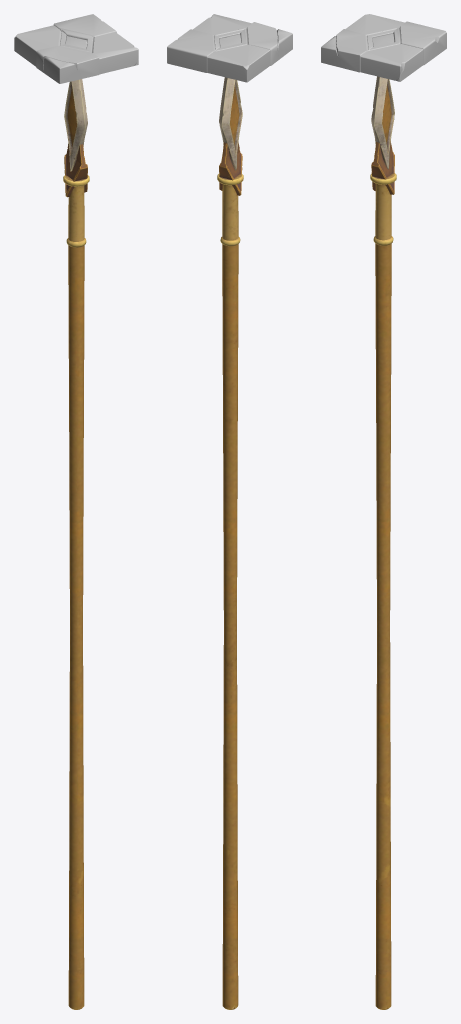
The picture shows the model from 3 angles, left to right: view 1: azimuth 30°, elevation 25°; view 2: azimuth 150°, elevation 25°; view 3: azimuth 330°, elevation 25°; orthographic projection.
Parts seen in each view (by area): view 1: SM_Spike_Floor_Trap_01_v2_LOD0; view 2: SM_Spike_Floor_Trap_01_v2_LOD0; view 3: SM_Spike_Floor_Trap_01_v2_LOD0.
Part boxes in pixels (<box>): SM_Spike_Floor_Trap_01_v2_LOD0: <box>14,14,138,1009</box>; SM_Spike_Floor_Trap_01_v2_LOD0: <box>167,14,292,1009</box>; SM_Spike_Floor_Trap_01_v2_LOD0: <box>321,14,446,1009</box>.
Size of the model in its own units: 0.5125 by 5.85 by 0.5123.
